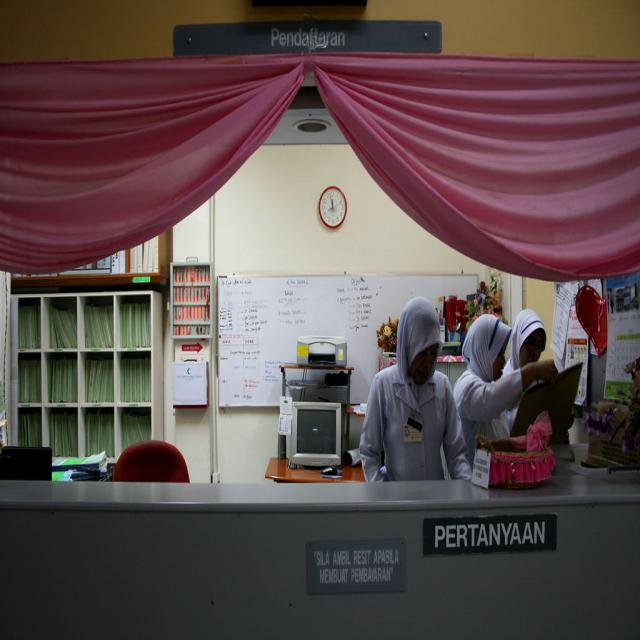chair: (112, 439, 192, 482)
desk: (0, 481, 639, 639)
laptop: (510, 361, 582, 443), (288, 400, 343, 468)
person: (358, 293, 473, 482), (452, 306, 554, 466)
